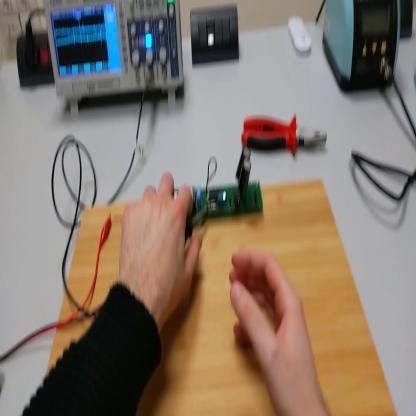hand: (231, 246, 324, 416), (117, 171, 203, 325)
high voltage board: (174, 152, 262, 220)
oscilloscope: (44, 4, 185, 117)
oscilloscope probe tip: (187, 212, 207, 250)
pliers: (242, 111, 331, 153)
socket: (14, 31, 55, 92), (400, 2, 414, 43)
welder station: (324, 3, 402, 96)
working area: (48, 177, 397, 414)
